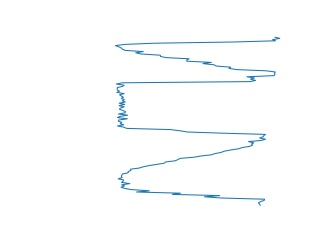distributaryChannelFill: (112, 73, 270, 141)
mouthBar: (110, 32, 281, 75)
underwaterDistributaryChannel: (114, 136, 268, 208)
